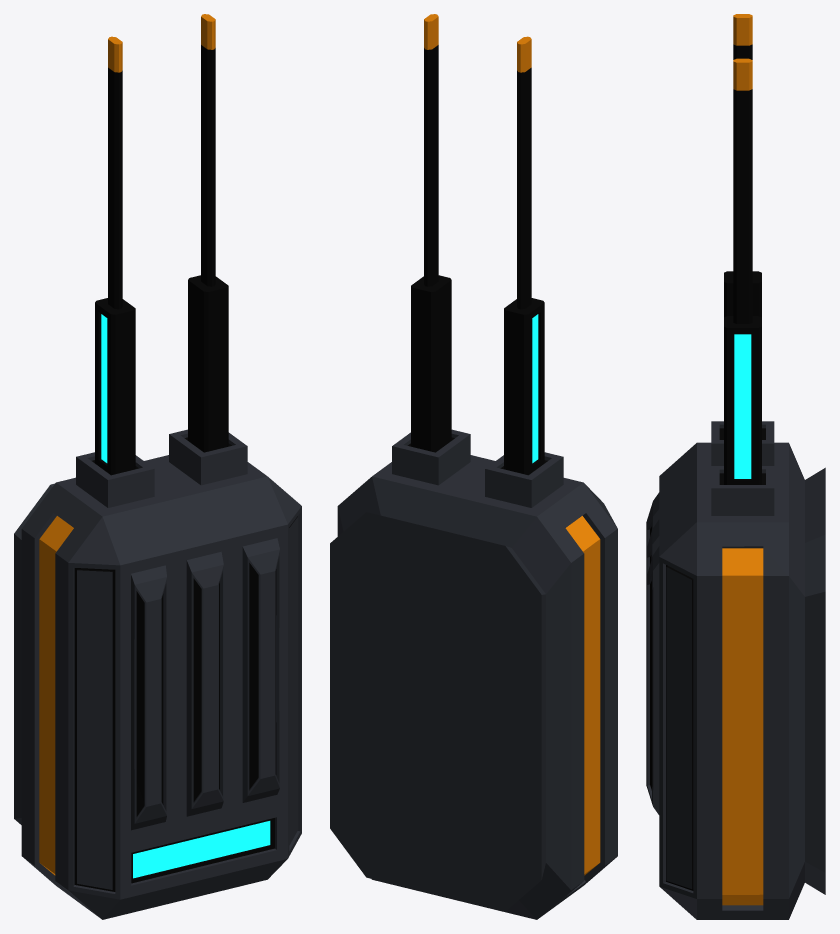
File: SM_RadioEmitter.fbx
3 renders of one model, left to right at view 1: azimuth 30°, elevation 25°; view 2: azimuth 150°, elevation 25°; view 3: azimuth 270°, elevation 25°, orthographic.
Visible parts, largest first — view 1: SM_RadioEmitter; view 2: SM_RadioEmitter; view 3: SM_RadioEmitter.
Boxes of the visible parts, box(x1,y1,x2,y2) form: SM_RadioEmitter: box(14, 14, 301, 919); SM_RadioEmitter: box(330, 14, 617, 919); SM_RadioEmitter: box(646, 14, 825, 919).
Bounding box in the file's own units: 11.72 × 40.92 × 7.89.
